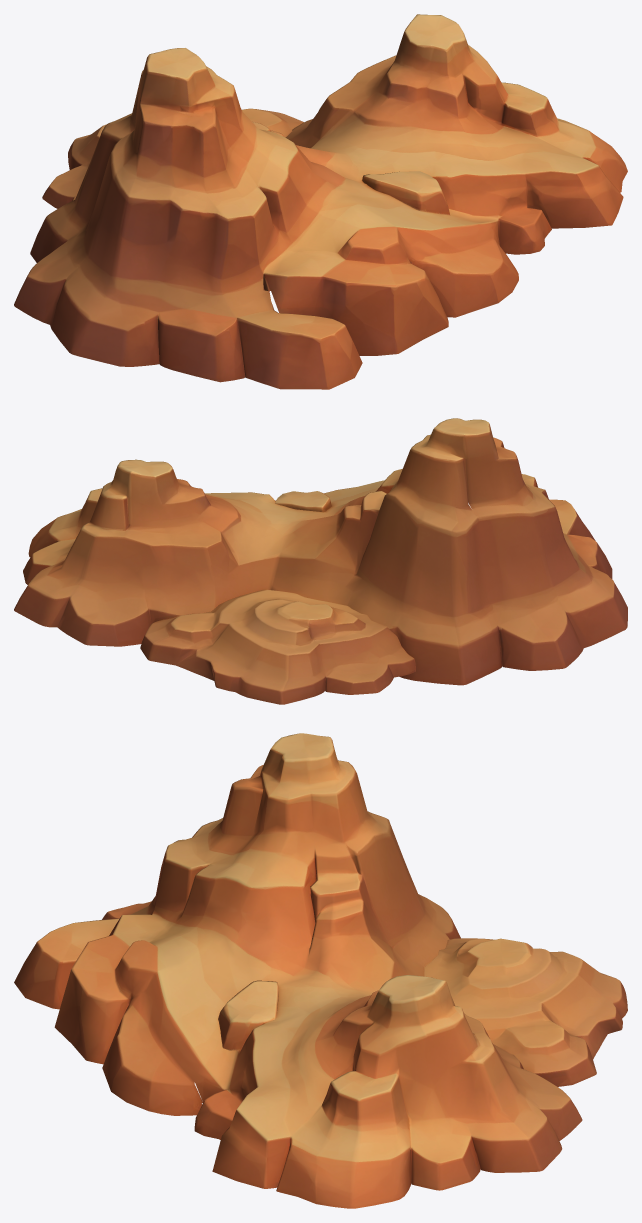
The model's file is canyon-rock-3.glb.
The picture shows the model from 3 angles, top to bottom: view 1: azimuth 30°, elevation 25°; view 2: azimuth 150°, elevation 25°; view 3: azimuth 270°, elevation 25°; orthographic projection. The views are drawn at different scales.
Parts seen in each view (by area): view 1: ca97f1ec_f22a_494a_83df_f4fbddbee9d2; view 2: ca97f1ec_f22a_494a_83df_f4fbddbee9d2; view 3: ca97f1ec_f22a_494a_83df_f4fbddbee9d2.
Part boxes in pixels (x1=…): ca97f1ec_f22a_494a_83df_f4fbddbee9d2: x1=14, y1=14, x2=627, y2=389; ca97f1ec_f22a_494a_83df_f4fbddbee9d2: x1=14, y1=418, x2=627, y2=704; ca97f1ec_f22a_494a_83df_f4fbddbee9d2: x1=14, y1=733, x2=627, y2=1208.
Bounding box in the file's own units: 0.9995 × 0.3579 × 0.8491.
1 material, 1 textured.
